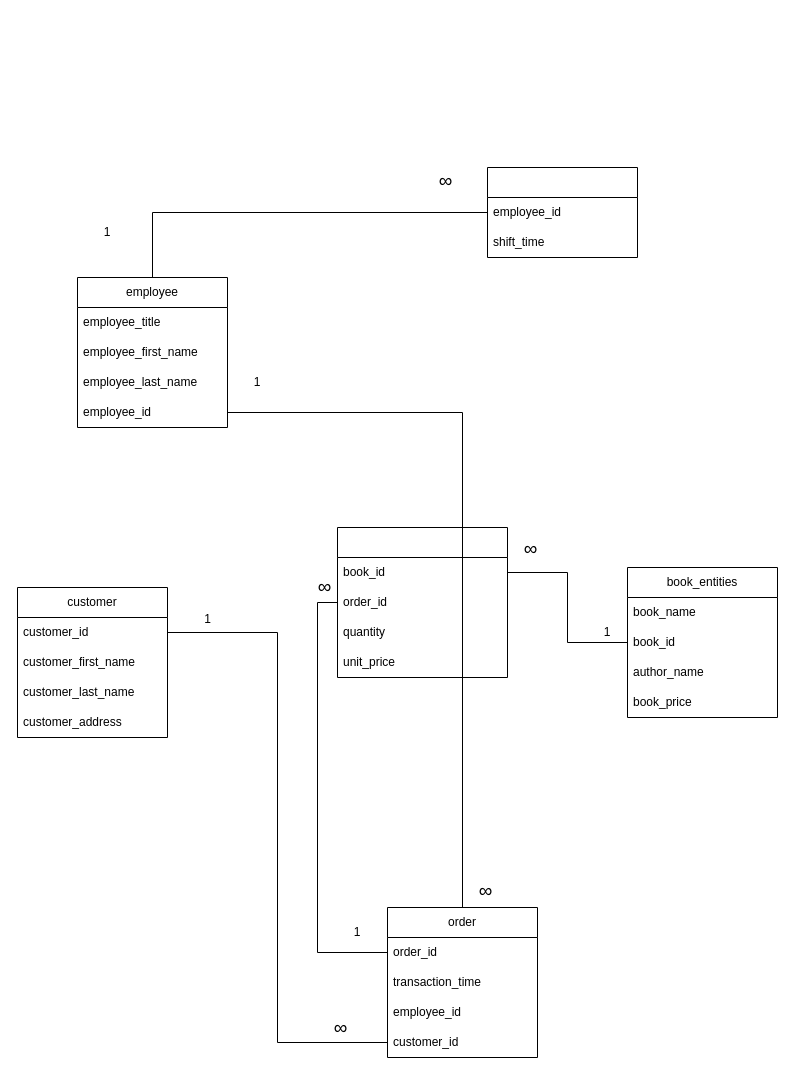
Some shapes in this 795 by 1075 pixel diagram are drawn without their labels. Each missing label, with the box of its shape:
employee_shifts: (486, 166, 638, 258)
sales: (336, 526, 508, 678)
